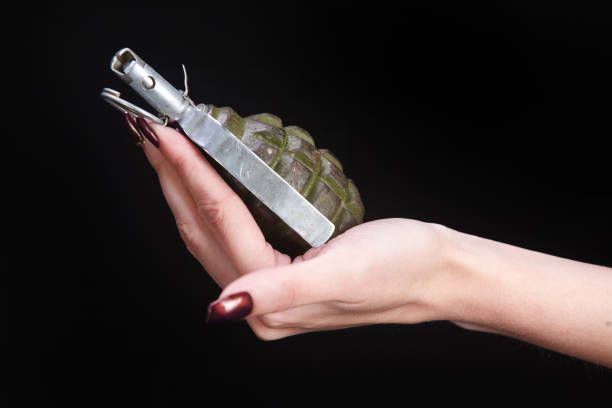e1: (102, 46, 362, 243)
